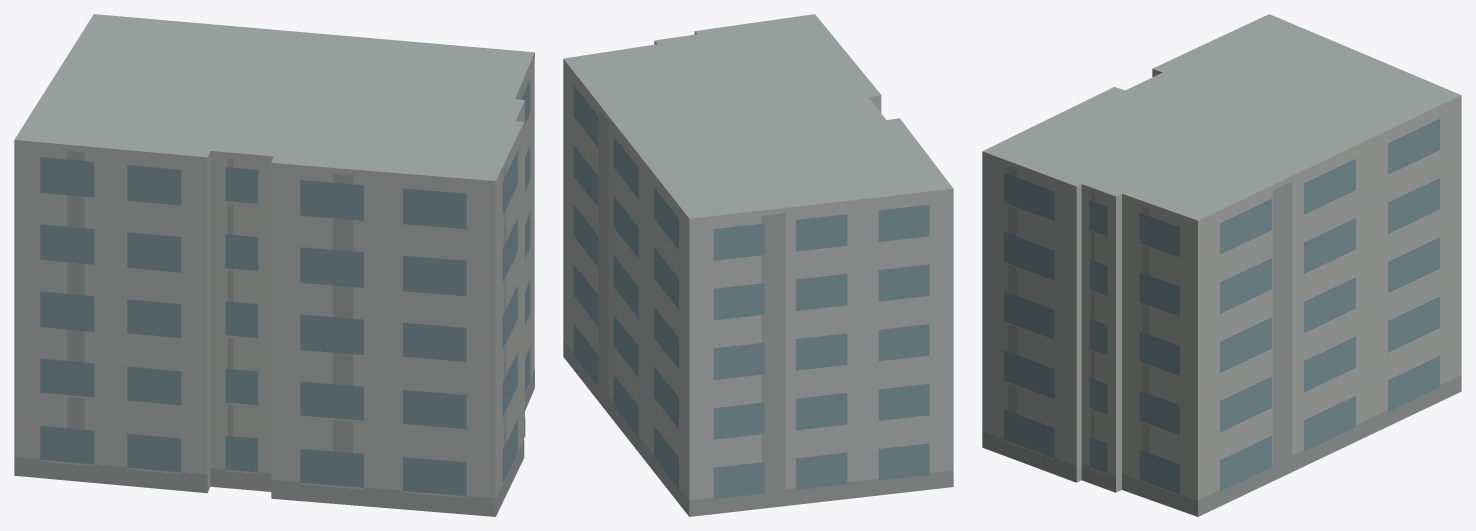
The model's file is survey-upis-32985199.glb.
3 renders of one model, left to right at view 1: azimuth 30°, elevation 25°; view 2: azimuth 150°, elevation 25°; view 3: azimuth 270°, elevation 25°, orthographic. The views are drawn at different scales.
Visible parts, largest first — view 1: survey-upis-32985199.tmp; view 2: survey-upis-32985199.tmp; view 3: survey-upis-32985199.tmp.
Part boxes in pixels (x1,y1,x2,y2): survey-upis-32985199.tmp: (14,14,534,516); survey-upis-32985199.tmp: (563,14,953,516); survey-upis-32985199.tmp: (982,14,1461,516).
Bounding box in the file's own units: 19.91 × 13.3 × 19.51.
